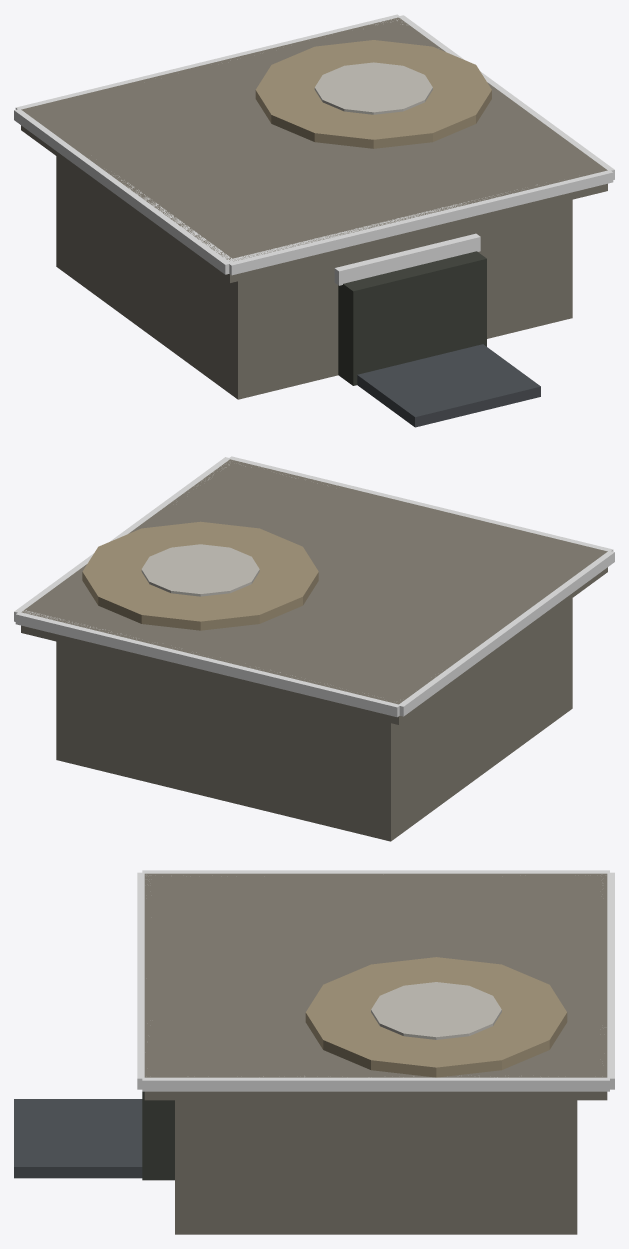
File: RF_Structure_Bunker.glb
3 renders of one model, top to bottom at view 1: azimuth 30°, elevation 25°; view 2: azimuth 150°, elevation 25°; view 3: azimuth 270°, elevation 25°, orthographic. The views are drawn at different scales.
Visible parts, largest first — view 1: RF_Structure_Bunker, Helipad, TeamTrim, LiftPlatform; view 2: RF_Structure_Bunker, Helipad, TeamTrim; view 3: RF_Structure_Bunker, Helipad, TeamTrim, LiftPlatform.
Boxes of the visible parts, x1,y1,x2,y2 form: RF_Structure_Bunker: (21,17,607,399); Helipad: (255,40,491,148); TeamTrim: (14,14,614,285); LiftPlatform: (357,344,540,427); RF_Structure_Bunker: (21,459,607,841); Helipad: (82,521,318,630); TeamTrim: (14,456,614,717); RF_Structure_Bunker: (142,873,607,1234); Helipad: (305,957,567,1077); TeamTrim: (137,870,614,1091); LiftPlatform: (14,1099,142,1178).
Size of the model in its own units: 9.9 by 3.98 by 11.95.
